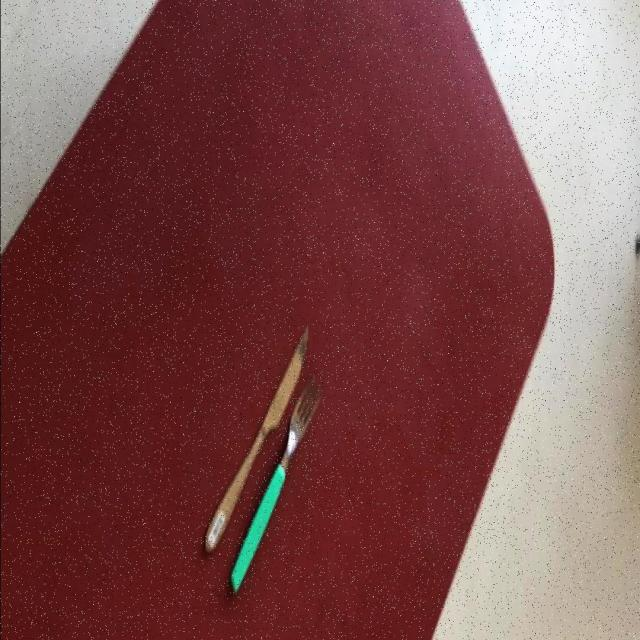Fork: (204, 326, 310, 556), (229, 379, 322, 596)
Knife: (204, 325, 310, 556), (229, 379, 322, 596)
